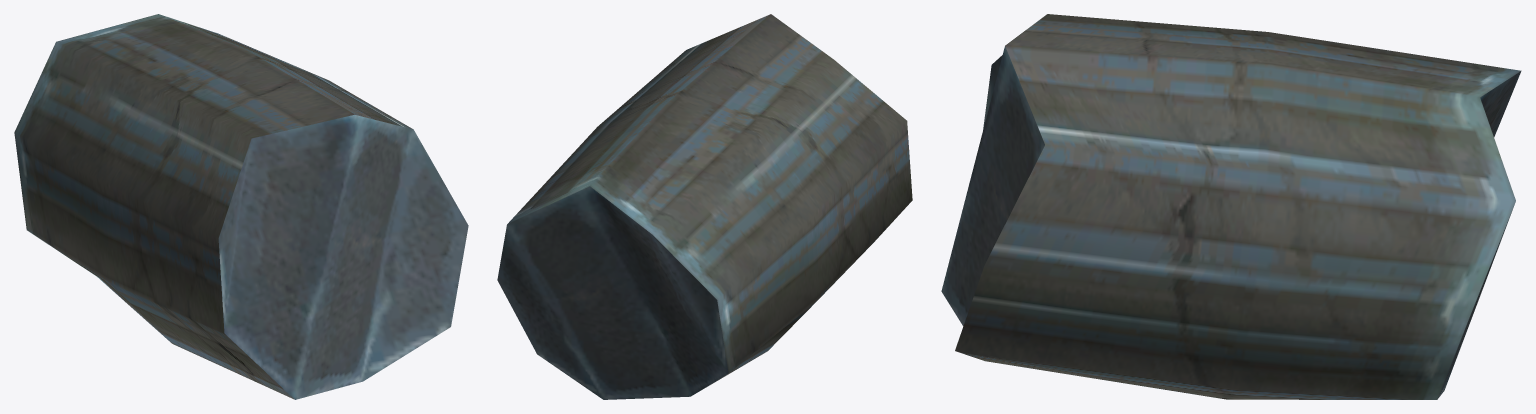
File: stemple_pillar_10.fbx
3 renders of one model, left to right at view 1: azimuth 30°, elevation 25°; view 2: azimuth 150°, elevation 25°; view 3: azimuth 270°, elevation 25°, orthographic. The views are drawn at different scales.
Parts seen in each view (by area): view 1: sunken_tileset/sunken_wall_convex02_mat; view 2: sunken_tileset/sunken_wall_convex02_mat; view 3: sunken_tileset/sunken_wall_convex02_mat.
Boxes of the visible parts, <box> form: sunken_tileset/sunken_wall_convex02_mat: <box>14,14,468,399</box>; sunken_tileset/sunken_wall_convex02_mat: <box>497,14,912,399</box>; sunken_tileset/sunken_wall_convex02_mat: <box>941,14,1521,399</box>.
Bounding box in the file's own units: 1.55 × 1.65 × 2.45.
